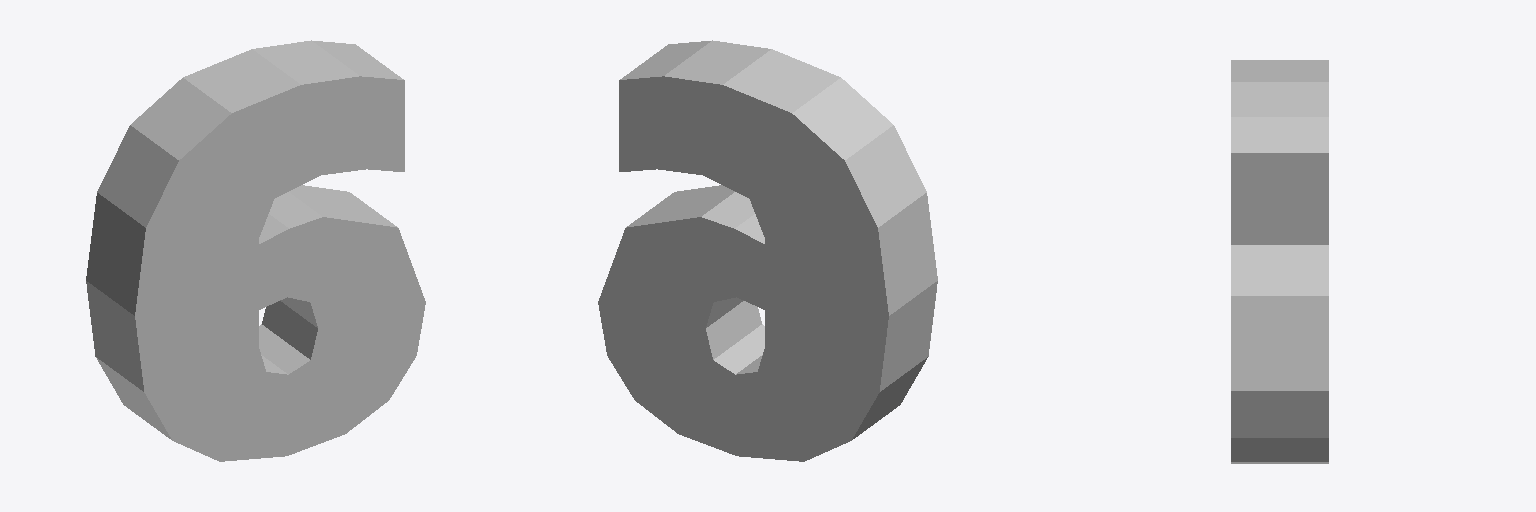
3 renders of one model, left to right at view 1: azimuth 30°, elevation 25°; view 2: azimuth 150°, elevation 25°; view 3: azimuth 270°, elevation 25°, orthographic.
Parts seen in each view (by area): view 1: text: ABCDEFGHIJKLMNOPQRSTUVWXYZ[number redacted]; view 2: text: ABCDEFGHIJKLMNOPQRSTUVWXYZ[number redacted]; view 3: text: ABCDEFGHIJKLMNOPQRSTUVWXYZ[number redacted].
Part boxes in pixels (x1,y1,x2,y2): text: ABCDEFGHIJKLMNOPQRSTUVWXYZ[number redacted]: (86,40,425,461); text: ABCDEFGHIJKLMNOPQRSTUVWXYZ[number redacted]: (598,40,937,461); text: ABCDEFGHIJKLMNOPQRSTUVWXYZ[number redacted]: (1231,60,1328,463).
Bounding box in the file's own units: 85.73 × 104 × 25.